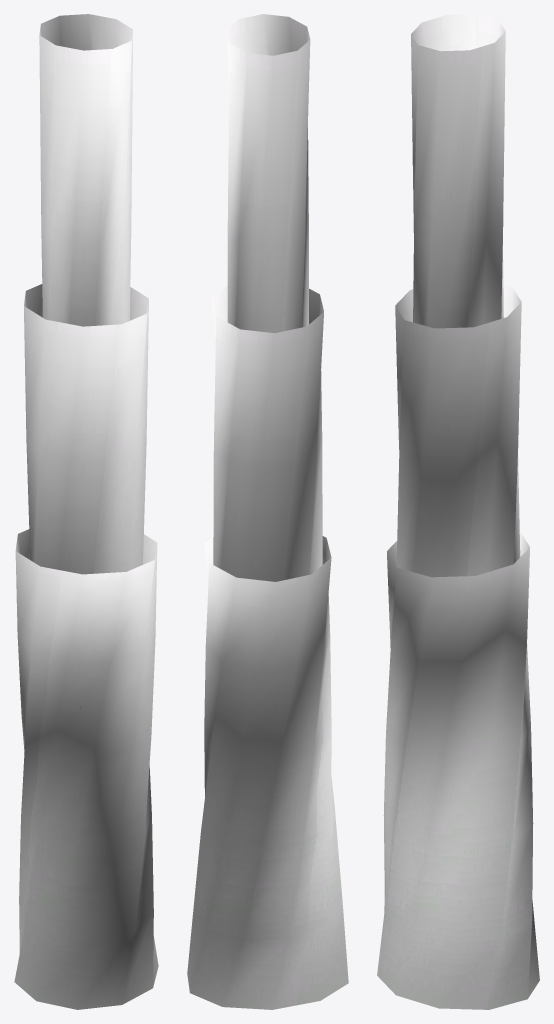
The model's file is auragreenverytall.obj.
3 renders of one model, left to right at view 1: azimuth 30°, elevation 25°; view 2: azimuth 150°, elevation 25°; view 3: azimuth 270°, elevation 25°, orthographic.
Visible parts, largest first — view 1: AURAGREENVERYTALL1, AURAGREENVERYTALL0, AURAGREENVERYTALL2; view 2: AURAGREENVERYTALL1, AURAGREENVERYTALL0, AURAGREENVERYTALL2; view 3: AURAGREENVERYTALL1, AURAGREENVERYTALL0, AURAGREENVERYTALL2.
Boxes of the visible parts, x1,y1,x2,y2 form: AURAGREENVERYTALL1: (14,529,158,1009); AURAGREENVERYTALL0: (24,284,148,708); AURAGREENVERYTALL2: (39,14,133,326); AURAGREENVERYTALL1: (187,535,348,1009); AURAGREENVERYTALL0: (212,286,323,581); AURAGREENVERYTALL2: (226,14,310,333); AURAGREENVERYTALL1: (377,531,539,1009); AURAGREENVERYTALL0: (395,284,521,577); AURAGREENVERYTALL2: (411,14,505,328).
Size of the model in its own units: 1.73 by 11.95 by 1.87.
1 material, 1 textured.
